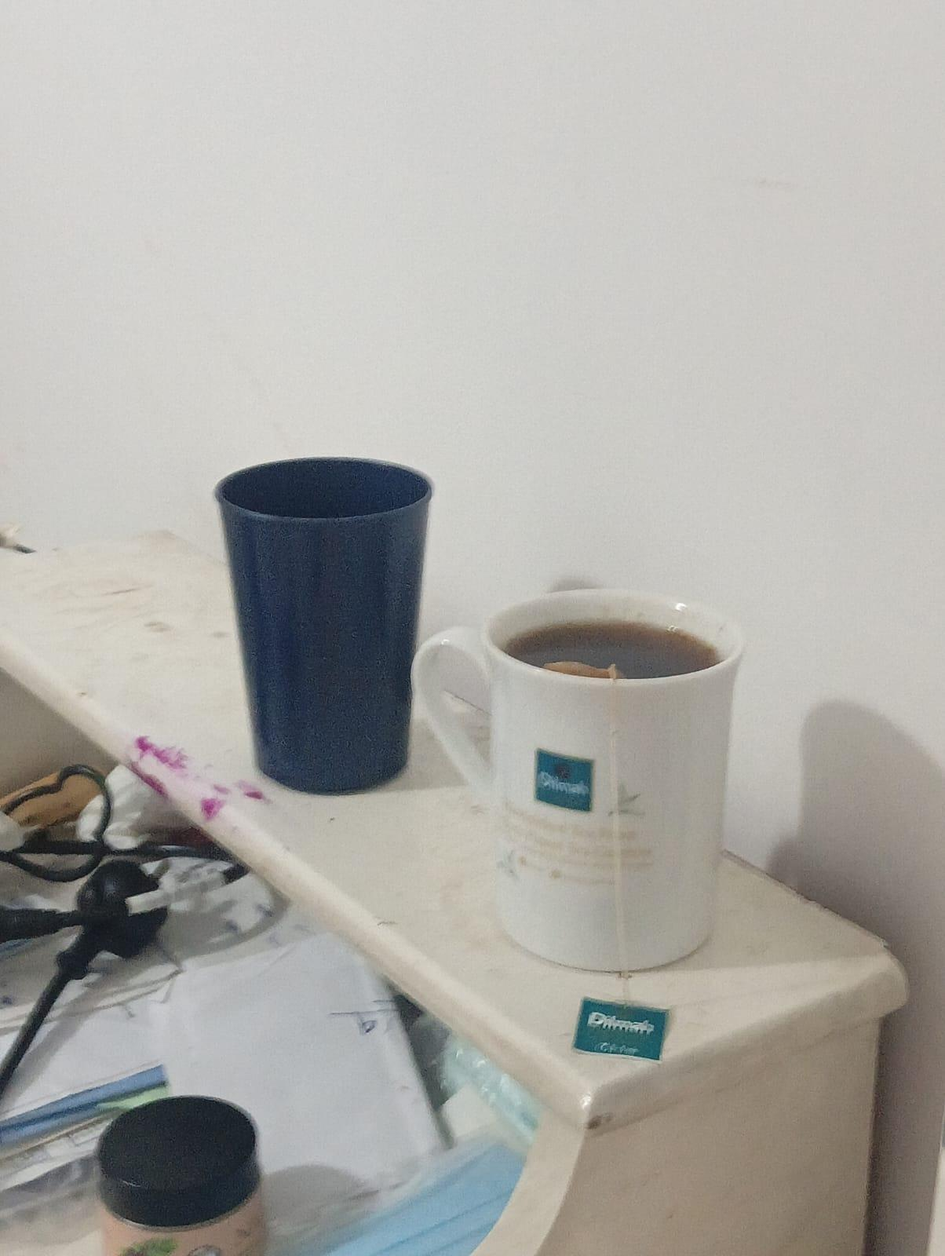cup: (412, 590, 742, 971), (215, 458, 432, 793), (498, 600, 720, 681), (214, 457, 431, 525)
